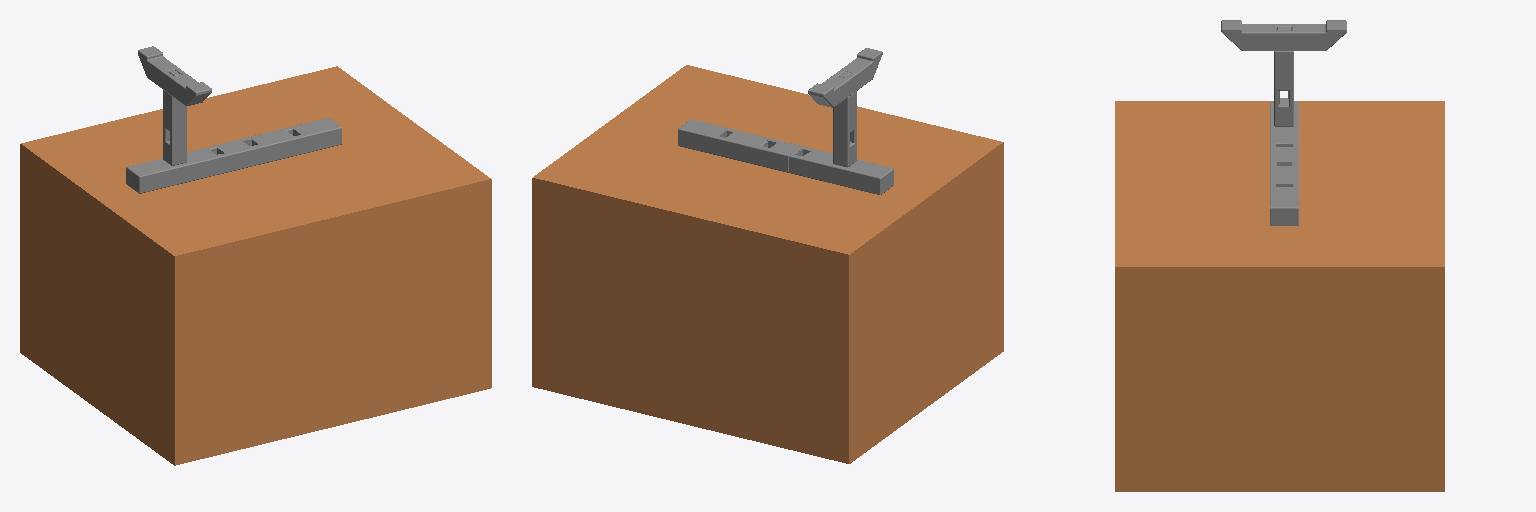
The robot description file, URDF, robot "table_beam_2x_3_scene_0051":
<?xml version="1.0"?>
<robot name="table_beam_2x_3_scene_0051">
  <link name="box">
    <visual>
      <material name="wood"><color rgba="0.82 0.56 0.35 1.0"/></material>
      <origin xyz="0 0 0"/>
      <geometry><box size="0.475 0.4 0.3"/></geometry>
    </visual>
    <collision>
      <origin xyz="0 0 0"/>
      <geometry><box size="0.475 0.4 0.3"/></geometry>
    </collision>
    <inertial>
      <mass value="500"/>
      <friction value="1.0"/>
      <inertia ixx="1000.0" ixy="0.0" ixz="0.0" iyy="1000.0" iyz="0.0" izz="1000.0"/>
    </inertial>
  </link>
  <link name="part_6_hull_0">
    <visual>
      <origin xyz="0 0 0" rpy="0 0 0"/>
      <geometry><mesh filename="../../6/coacd/decomp_0.obj" scale="1 1 1"/></geometry>
      <material name="placed_0"><color rgba="0.6 0.6 0.6 1.0"/></material>
    </visual>
    <collision>
      <origin xyz="0 0 0" rpy="0 0 0"/>
      <geometry><mesh filename="../../6/coacd/decomp_0.obj" scale="1 1 1"/></geometry>
    </collision>
  </link>
  <joint name="part_6_hull_0_joint" type="fixed">
    <parent link="box"/>
    <child link="part_6_hull_0"/>
    <origin xyz="-0.029690 0.005118 0.162666" rpy="0.000000 0.000000 0.000000"/>
  </joint>
  <link name="part_6_hull_1">
    <visual>
      <origin xyz="0 0 0" rpy="0 0 0"/>
      <geometry><mesh filename="../../6/coacd/decomp_1.obj" scale="1 1 1"/></geometry>
      <material name="placed_1"><color rgba="0.6 0.6 0.6 1.0"/></material>
    </visual>
    <collision>
      <origin xyz="0 0 0" rpy="0 0 0"/>
      <geometry><mesh filename="../../6/coacd/decomp_1.obj" scale="1 1 1"/></geometry>
    </collision>
  </link>
  <joint name="part_6_hull_1_joint" type="fixed">
    <parent link="box"/>
    <child link="part_6_hull_1"/>
    <origin xyz="-0.029690 0.005118 0.162666" rpy="0.000000 0.000000 0.000000"/>
  </joint>
  <link name="part_6_hull_2">
    <visual>
      <origin xyz="0 0 0" rpy="0 0 0"/>
      <geometry><mesh filename="../../6/coacd/decomp_10.obj" scale="1 1 1"/></geometry>
      <material name="placed_2"><color rgba="0.6 0.6 0.6 1.0"/></material>
    </visual>
    <collision>
      <origin xyz="0 0 0" rpy="0 0 0"/>
      <geometry><mesh filename="../../6/coacd/decomp_10.obj" scale="1 1 1"/></geometry>
    </collision>
  </link>
  <joint name="part_6_hull_2_joint" type="fixed">
    <parent link="box"/>
    <child link="part_6_hull_2"/>
    <origin xyz="-0.029690 0.005118 0.162666" rpy="0.000000 0.000000 0.000000"/>
  </joint>
  <link name="part_6_hull_3">
    <visual>
      <origin xyz="0 0 0" rpy="0 0 0"/>
      <geometry><mesh filename="../../6/coacd/decomp_11.obj" scale="1 1 1"/></geometry>
      <material name="placed_3"><color rgba="0.6 0.6 0.6 1.0"/></material>
    </visual>
    <collision>
      <origin xyz="0 0 0" rpy="0 0 0"/>
      <geometry><mesh filename="../../6/coacd/decomp_11.obj" scale="1 1 1"/></geometry>
    </collision>
  </link>
  <joint name="part_6_hull_3_joint" type="fixed">
    <parent link="box"/>
    <child link="part_6_hull_3"/>
    <origin xyz="-0.029690 0.005118 0.162666" rpy="0.000000 0.000000 0.000000"/>
  </joint>
  <link name="part_6_hull_4">
    <visual>
      <origin xyz="0 0 0" rpy="0 0 0"/>
      <geometry><mesh filename="../../6/coacd/decomp_12.obj" scale="1 1 1"/></geometry>
      <material name="placed_4"><color rgba="0.6 0.6 0.6 1.0"/></material>
    </visual>
    <collision>
      <origin xyz="0 0 0" rpy="0 0 0"/>
      <geometry><mesh filename="../../6/coacd/decomp_12.obj" scale="1 1 1"/></geometry>
    </collision>
  </link>
  <joint name="part_6_hull_4_joint" type="fixed">
    <parent link="box"/>
    <child link="part_6_hull_4"/>
    <origin xyz="-0.029690 0.005118 0.162666" rpy="0.000000 0.000000 0.000000"/>
  </joint>
  <link name="part_6_hull_5">
    <visual>
      <origin xyz="0 0 0" rpy="0 0 0"/>
      <geometry><mesh filename="../../6/coacd/decomp_13.obj" scale="1 1 1"/></geometry>
      <material name="placed_5"><color rgba="0.6 0.6 0.6 1.0"/></material>
    </visual>
    <collision>
      <origin xyz="0 0 0" rpy="0 0 0"/>
      <geometry><mesh filename="../../6/coacd/decomp_13.obj" scale="1 1 1"/></geometry>
    </collision>
  </link>
  <joint name="part_6_hull_5_joint" type="fixed">
    <parent link="box"/>
    <child link="part_6_hull_5"/>
    <origin xyz="-0.029690 0.005118 0.162666" rpy="0.000000 0.000000 0.000000"/>
  </joint>
  <link name="part_6_hull_6">
    <visual>
      <origin xyz="0 0 0" rpy="0 0 0"/>
      <geometry><mesh filename="../../6/coacd/decomp_2.obj" scale="1 1 1"/></geometry>
      <material name="placed_6"><color rgba="0.6 0.6 0.6 1.0"/></material>
    </visual>
    <collision>
      <origin xyz="0 0 0" rpy="0 0 0"/>
      <geometry><mesh filename="../../6/coacd/decomp_2.obj" scale="1 1 1"/></geometry>
    </collision>
  </link>
  <joint name="part_6_hull_6_joint" type="fixed">
    <parent link="box"/>
    <child link="part_6_hull_6"/>
    <origin xyz="-0.029690 0.005118 0.162666" rpy="0.000000 0.000000 0.000000"/>
  </joint>
  <link name="part_6_hull_7">
    <visual>
      <origin xyz="0 0 0" rpy="0 0 0"/>
      <geometry><mesh filename="../../6/coacd/decomp_3.obj" scale="1 1 1"/></geometry>
      <material name="placed_7"><color rgba="0.6 0.6 0.6 1.0"/></material>
    </visual>
    <collision>
      <origin xyz="0 0 0" rpy="0 0 0"/>
      <geometry><mesh filename="../../6/coacd/decomp_3.obj" scale="1 1 1"/></geometry>
    </collision>
  </link>
  <joint name="part_6_hull_7_joint" type="fixed">
    <parent link="box"/>
    <child link="part_6_hull_7"/>
    <origin xyz="-0.029690 0.005118 0.162666" rpy="0.000000 0.000000 0.000000"/>
  </joint>
  <link name="part_6_hull_8">
    <visual>
      <origin xyz="0 0 0" rpy="0 0 0"/>
      <geometry><mesh filename="../../6/coacd/decomp_4.obj" scale="1 1 1"/></geometry>
      <material name="placed_8"><color rgba="0.6 0.6 0.6 1.0"/></material>
    </visual>
    <collision>
      <origin xyz="0 0 0" rpy="0 0 0"/>
      <geometry><mesh filename="../../6/coacd/decomp_4.obj" scale="1 1 1"/></geometry>
    </collision>
  </link>
  <joint name="part_6_hull_8_joint" type="fixed">
    <parent link="box"/>
    <child link="part_6_hull_8"/>
    <origin xyz="-0.029690 0.005118 0.162666" rpy="0.000000 0.000000 0.000000"/>
  </joint>
  <link name="part_6_hull_9">
    <visual>
      <origin xyz="0 0 0" rpy="0 0 0"/>
      <geometry><mesh filename="../../6/coacd/decomp_5.obj" scale="1 1 1"/></geometry>
      <material name="placed_9"><color rgba="0.6 0.6 0.6 1.0"/></material>
    </visual>
    <collision>
      <origin xyz="0 0 0" rpy="0 0 0"/>
      <geometry><mesh filename="../../6/coacd/decomp_5.obj" scale="1 1 1"/></geometry>
    </collision>
  </link>
  <joint name="part_6_hull_9_joint" type="fixed">
    <parent link="box"/>
    <child link="part_6_hull_9"/>
    <origin xyz="-0.029690 0.005118 0.162666" rpy="0.000000 0.000000 0.000000"/>
  </joint>
  <link name="part_6_hull_10">
    <visual>
      <origin xyz="0 0 0" rpy="0 0 0"/>
      <geometry><mesh filename="../../6/coacd/decomp_6.obj" scale="1 1 1"/></geometry>
      <material name="placed_10"><color rgba="0.6 0.6 0.6 1.0"/></material>
    </visual>
    <collision>
      <origin xyz="0 0 0" rpy="0 0 0"/>
      <geometry><mesh filename="../../6/coacd/decomp_6.obj" scale="1 1 1"/></geometry>
    </collision>
  </link>
  <joint name="part_6_hull_10_joint" type="fixed">
    <parent link="box"/>
    <child link="part_6_hull_10"/>
    <origin xyz="-0.029690 0.005118 0.162666" rpy="0.000000 0.000000 0.000000"/>
  </joint>
  <link name="part_6_hull_11">
    <visual>
      <origin xyz="0 0 0" rpy="0 0 0"/>
      <geometry><mesh filename="../../6/coacd/decomp_7.obj" scale="1 1 1"/></geometry>
      <material name="placed_11"><color rgba="0.6 0.6 0.6 1.0"/></material>
    </visual>
    <collision>
      <origin xyz="0 0 0" rpy="0 0 0"/>
      <geometry><mesh filename="../../6/coacd/decomp_7.obj" scale="1 1 1"/></geometry>
    </collision>
  </link>
  <joint name="part_6_hull_11_joint" type="fixed">
    <parent link="box"/>
    <child link="part_6_hull_11"/>
    <origin xyz="-0.029690 0.005118 0.162666" rpy="0.000000 0.000000 0.000000"/>
  </joint>
  <link name="part_6_hull_12">
    <visual>
      <origin xyz="0 0 0" rpy="0 0 0"/>
      <geometry><mesh filename="../../6/coacd/decomp_8.obj" scale="1 1 1"/></geometry>
      <material name="placed_12"><color rgba="0.6 0.6 0.6 1.0"/></material>
    </visual>
    <collision>
      <origin xyz="0 0 0" rpy="0 0 0"/>
      <geometry><mesh filename="../../6/coacd/decomp_8.obj" scale="1 1 1"/></geometry>
    </collision>
  </link>
  <joint name="part_6_hull_12_joint" type="fixed">
    <parent link="box"/>
    <child link="part_6_hull_12"/>
    <origin xyz="-0.029690 0.005118 0.162666" rpy="0.000000 0.000000 0.000000"/>
  </joint>
  <link name="part_6_hull_13">
    <visual>
      <origin xyz="0 0 0" rpy="0 0 0"/>
      <geometry><mesh filename="../../6/coacd/decomp_9.obj" scale="1 1 1"/></geometry>
      <material name="placed_13"><color rgba="0.6 0.6 0.6 1.0"/></material>
    </visual>
    <collision>
      <origin xyz="0 0 0" rpy="0 0 0"/>
      <geometry><mesh filename="../../6/coacd/decomp_9.obj" scale="1 1 1"/></geometry>
    </collision>
  </link>
  <joint name="part_6_hull_13_joint" type="fixed">
    <parent link="box"/>
    <child link="part_6_hull_13"/>
    <origin xyz="-0.029690 0.005118 0.162666" rpy="0.000000 0.000000 0.000000"/>
  </joint>
  <link name="part_2_canonical">
    <visual>
      <origin xyz="0 0 0" rpy="0 0 0"/>
      <geometry><mesh filename="../../2/2_canonical.obj" scale="1 1 1"/></geometry>
      <material name="placed_14"><color rgba="0.6 0.6 0.6 1.0"/></material>
    </visual>
    <collision>
      <origin xyz="0 0 0" rpy="0 0 0"/>
      <geometry><mesh filename="../../2/2_canonical.obj" scale="1 1 1"/></geometry>
    </collision>
  </link>
  <joint name="part_2_canonical_joint" type="fixed">
    <parent link="box"/>
    <child link="part_2_canonical"/>
    <origin xyz="-0.118616 0.005118 0.225384" rpy="0.000000 -1.570796 0.000000"/>
  </joint>
  <link name="part_0_canonical">
    <visual>
      <origin xyz="0 0 0" rpy="0 0 0"/>
      <geometry><mesh filename="../../0/0_canonical.obj" scale="1 1 1"/></geometry>
      <material name="placed_15"><color rgba="0.6 0.6 0.6 1.0"/></material>
    </visual>
    <collision>
      <origin xyz="0 0 0" rpy="0 0 0"/>
      <geometry><mesh filename="../../0/0_canonical.obj" scale="1 1 1"/></geometry>
    </collision>
  </link>
  <joint name="part_0_canonical_joint" type="fixed">
    <parent link="box"/>
    <child link="part_0_canonical"/>
    <origin xyz="-0.118589 0.005118 0.292243" rpy="1.570796 0.000000 -1.570796"/>
  </joint>
</robot>

--- Facts derived from the render (not from the file) ---
The picture shows the robot from 3 angles, left to right: view 1: azimuth 30°, elevation 25°; view 2: azimuth 150°, elevation 25°; view 3: azimuth 270°, elevation 25°; orthographic projection.
Model table_beam_2x_3_scene_0051 with 17 links and 16 joints (16 fixed), rooted at box, posed every joint at zero.
Visible links, largest first — view 1: box, part_0_canonical, part_2_canonical, part_6_hull_1, part_6_hull_0, part_6_hull_9, part_6_hull_5, part_6_hull_3; view 2: box, part_0_canonical, part_2_canonical, part_6_hull_1, part_6_hull_0, part_6_hull_2, part_6_hull_5, part_6_hull_12; view 3: box, part_0_canonical, part_2_canonical, part_6_hull_0.
Boxes of the visible links, bbox=[...] form: box: bbox=[20, 66, 491, 465]; part_0_canonical: bbox=[138, 46, 211, 105]; part_2_canonical: bbox=[163, 70, 186, 165]; part_6_hull_1: bbox=[126, 158, 177, 193]; part_6_hull_0: bbox=[291, 118, 341, 153]; part_6_hull_9: bbox=[176, 153, 227, 184]; part_6_hull_5: bbox=[257, 129, 296, 161]; part_6_hull_3: bbox=[229, 142, 269, 171]; box: bbox=[532, 65, 1003, 463]; part_0_canonical: bbox=[808, 48, 882, 107]; part_2_canonical: bbox=[833, 71, 856, 167]; part_6_hull_1: bbox=[842, 160, 893, 194]; part_6_hull_0: bbox=[678, 119, 728, 154]; part_6_hull_2: bbox=[799, 151, 836, 183]; part_6_hull_5: bbox=[723, 130, 762, 162]; part_6_hull_12: bbox=[750, 144, 791, 172]; box: bbox=[1115, 101, 1444, 491]; part_0_canonical: bbox=[1221, 20, 1346, 50]; part_2_canonical: bbox=[1274, 27, 1293, 126]; part_6_hull_0: bbox=[1270, 187, 1298, 225].
Size in the robot's own frame: 0.475 by 0.4 by 0.4575 metres.
Meshes: 16 distinct files referenced, 16 mesh visuals loaded (16 OBJ).
